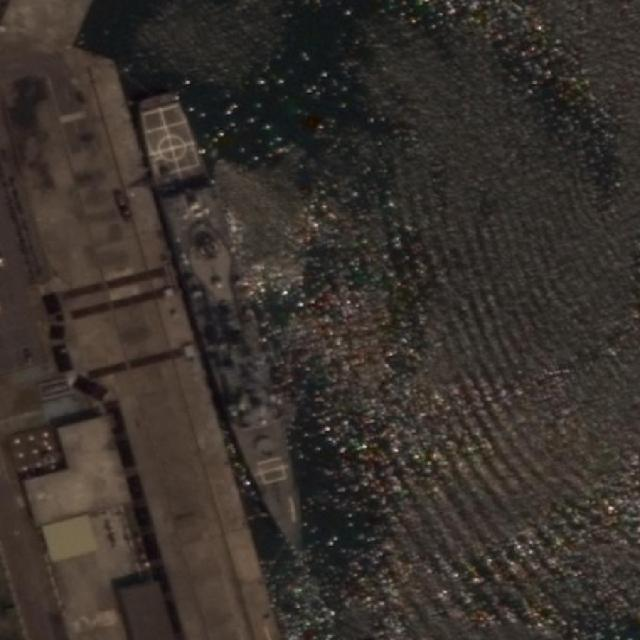Frigate: (131, 91, 317, 562)
